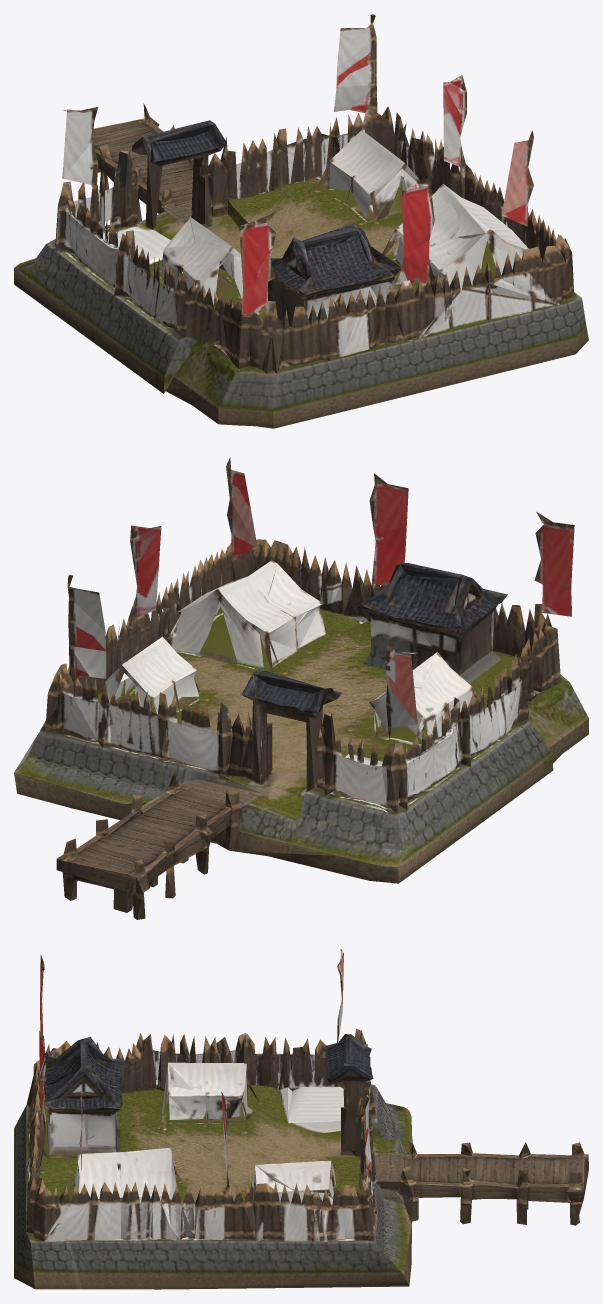
File: camp_japan_1.glb
The picture shows the model from 3 angles, top to bottom: view 1: azimuth 30°, elevation 25°; view 2: azimuth 150°, elevation 25°; view 3: azimuth 270°, elevation 25°; orthographic projection. The views are drawn at different scales.
Parts seen in each view (by area): view 1: camp_japan_1; view 2: camp_japan_1; view 3: camp_japan_1.
Boxes of the visible parts, x1,y1,x2,y2 form: camp_japan_1: (14, 14, 588, 428); camp_japan_1: (14, 457, 588, 919); camp_japan_1: (14, 949, 588, 1289).
Bounding box in the file's own units: 0.6893 × 0.3597 × 1.
Materials: 1 (1 with a texture image).
